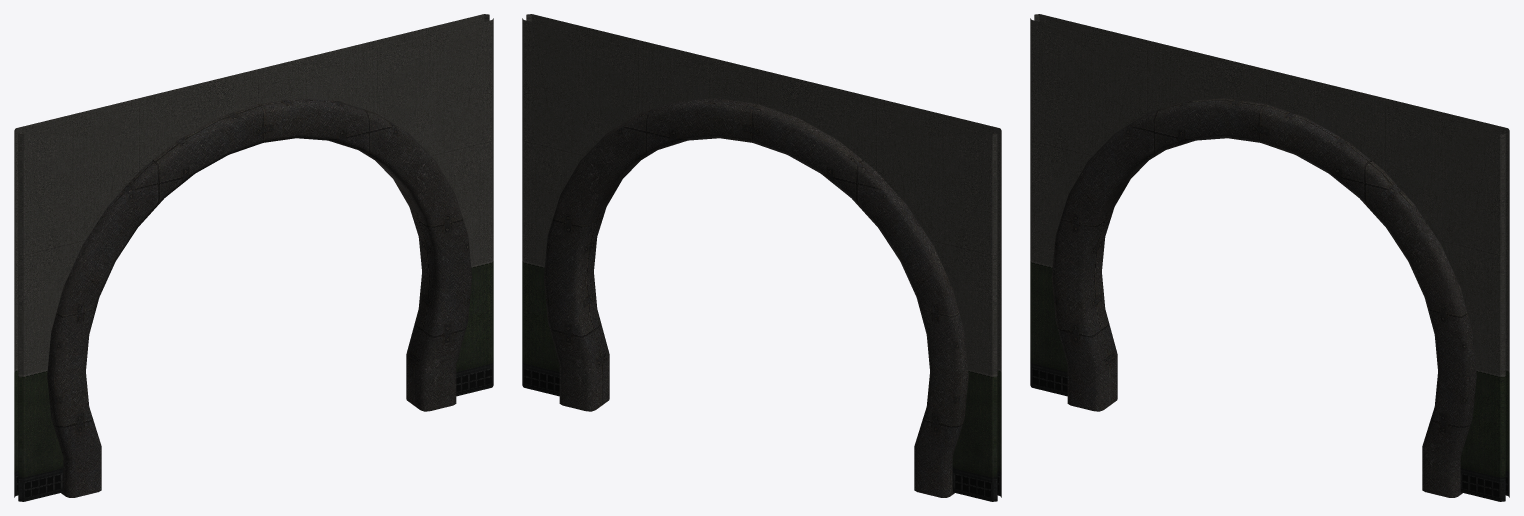
The model's file is tunnel_hole_2.glb.
The picture shows the model from 3 angles, left to right: view 1: azimuth 30°, elevation 25°; view 2: azimuth 150°, elevation 25°; view 3: azimuth 330°, elevation 25°; orthographic projection.
Visible parts, largest first — view 1: tunnel_hole_2; view 2: tunnel_hole_2; view 3: tunnel_hole_2.
Part boxes in pixels (x1,y1,x2,y2): tunnel_hole_2: (14, 14, 493, 501); tunnel_hole_2: (522, 14, 1001, 501); tunnel_hole_2: (1030, 14, 1509, 501).
Bounding box in the file's own units: 4.06 × 3.02 × 0.3.
Materials: 2 (2 with a texture image).
